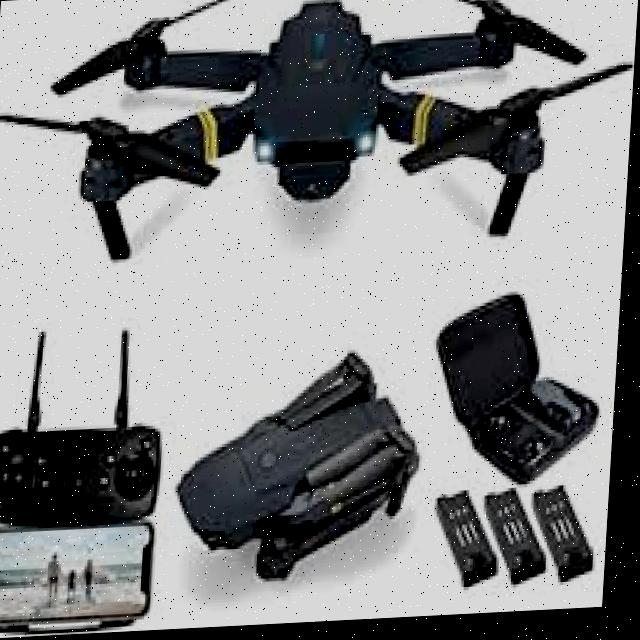drone: (0, 0, 640, 304)
